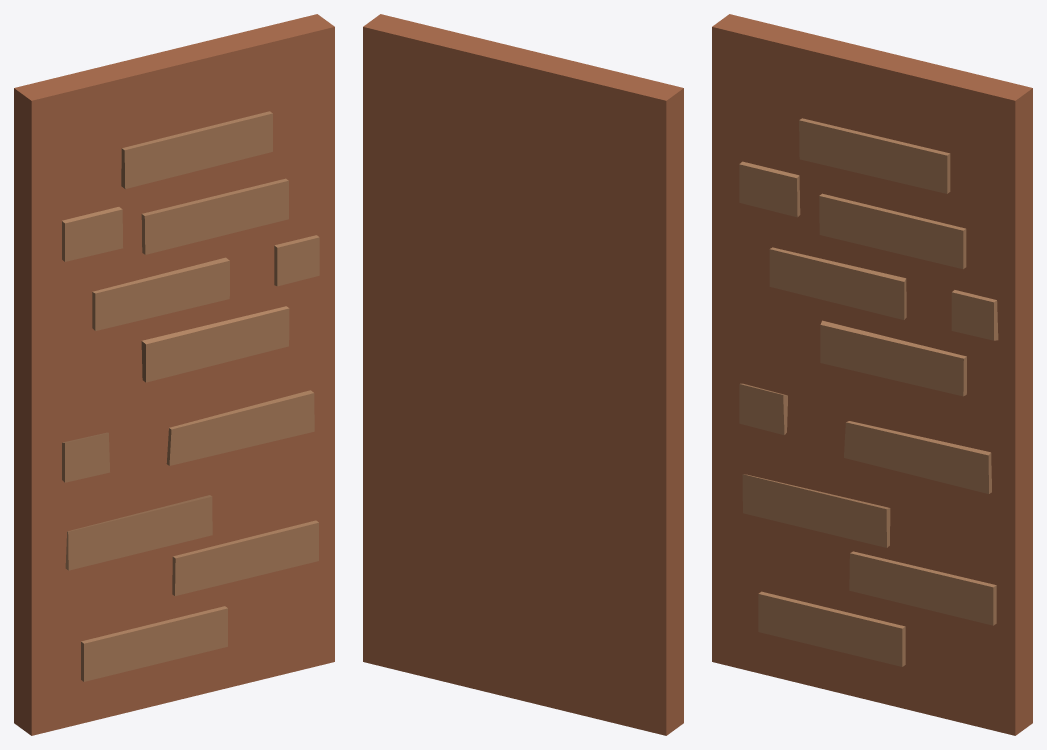
The model's file is BrickV3Small.fbx.
The picture shows the model from 3 angles, left to right: view 1: azimuth 30°, elevation 25°; view 2: azimuth 150°, elevation 25°; view 3: azimuth 330°, elevation 25°; orthographic projection.
Visible parts, largest first — view 1: BrickV3Small; view 2: BrickV3Small; view 3: BrickV3Small.
Part boxes in pixels (x1,y1,x2,y2): BrickV3Small: (14, 14, 334, 735); BrickV3Small: (363, 14, 683, 735); BrickV3Small: (712, 14, 1032, 735).
Bounding box in the file's own units: 100 × 200 × 11.75.
